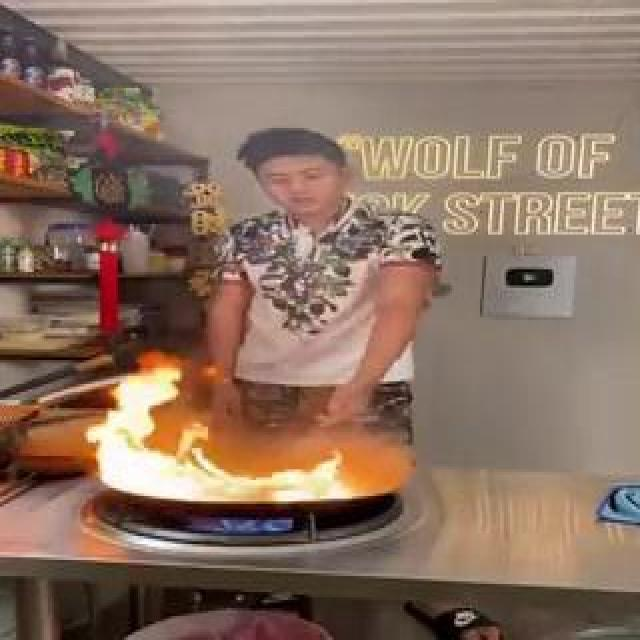Fire: (215, 122, 300, 442)
